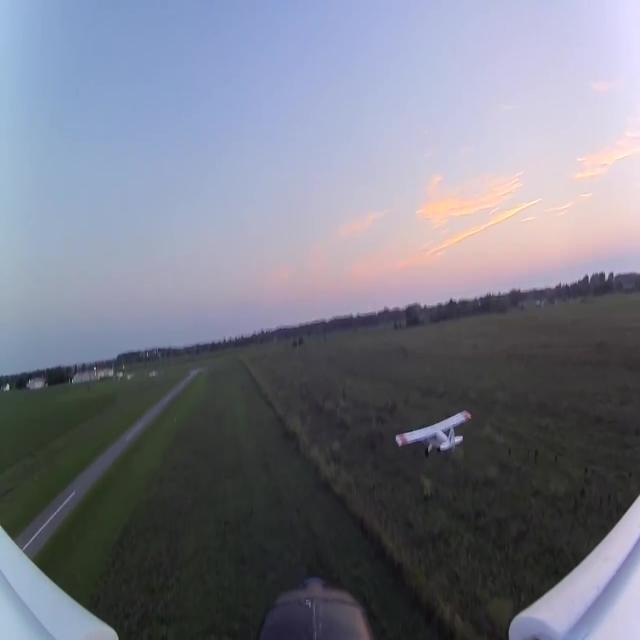iha: (426, 409, 439, 459)
